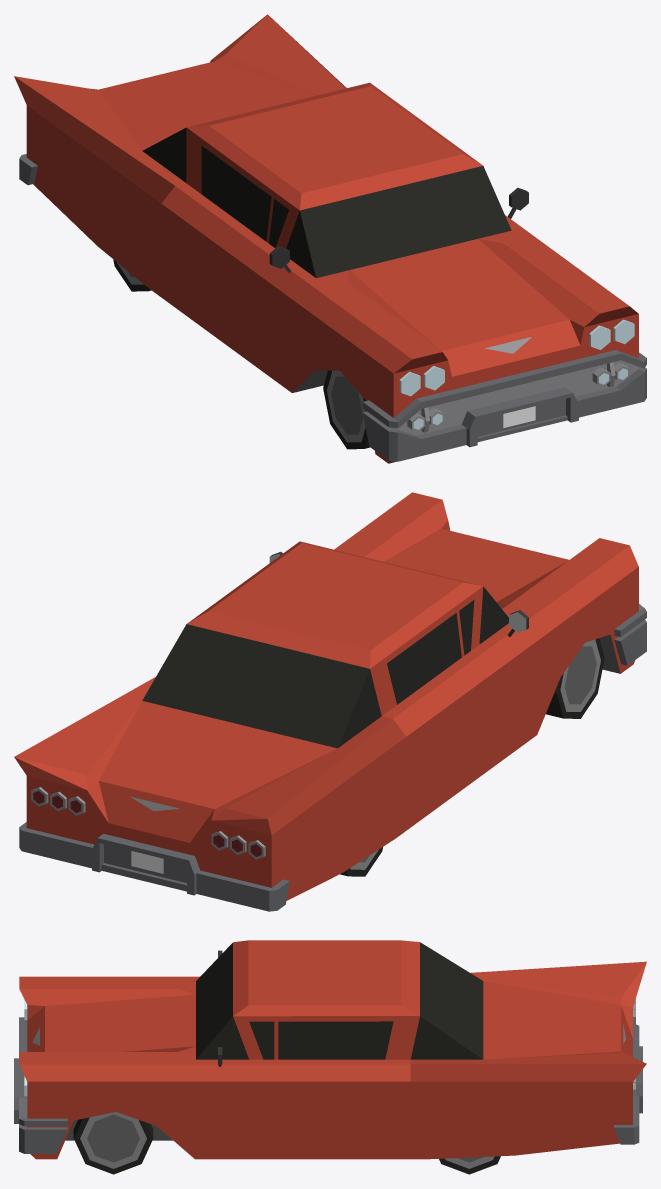
File: Veh_Retro_Car_03_Red.glb
3 views of the same model, one above another, from view 1: azimuth 30°, elevation 25°; view 2: azimuth 150°, elevation 25°; view 3: azimuth 270°, elevation 25° (orthographic). The views are drawn at different scales.
Parts seen in each view (by area): view 1: Retro_Car_03_Red, Wheel_FR; view 2: Retro_Car_03_Red, Wheel_FR; view 3: Retro_Car_03_Red, Wheel_FL, Wheel_RL.
Part boxes in pixels (left/top/right/bottom): Retro_Car_03_Red: left=14, top=14, right=646, bottom=463; Wheel_FR: left=323, top=370, right=369, bottom=449; Retro_Car_03_Red: left=14, top=492, right=646, bottom=911; Wheel_FR: left=546, top=638, right=604, bottom=718; Retro_Car_03_Red: left=14, top=940, right=646, bottom=1159; Wheel_FL: left=73, top=1112, right=153, bottom=1174; Wheel_RL: left=439, top=1156, right=500, bottom=1174.
Bounding box in the file's own units: 1.16 × 0.8052 × 2.99.
1 material, 1 textured.
